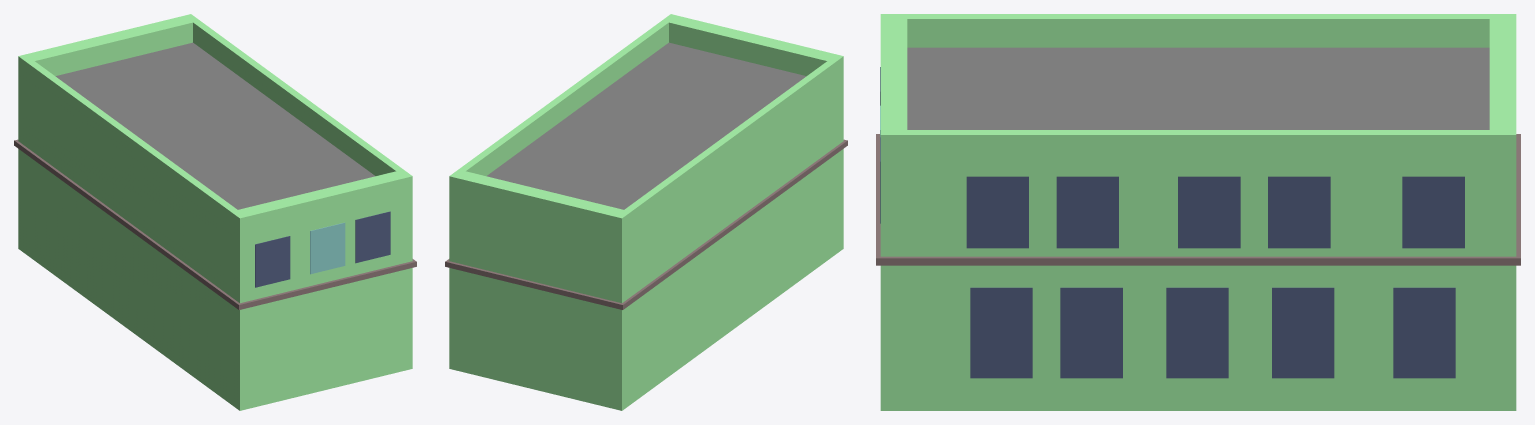
The model's file is RESOURCE.glb.
3 views of the same model, side by side, from view 1: azimuth 30°, elevation 25°; view 2: azimuth 150°, elevation 25°; view 3: azimuth 270°, elevation 25° (orthographic). The views are drawn at different scales.
Visible parts, largest first — view 1: polySurface11; view 2: polySurface11; view 3: polySurface11.
Boxes of the visible parts, left/top/right/bottom form: polySurface11: left=14, top=14, right=416, bottom=410; polySurface11: left=445, top=14, right=847, bottom=410; polySurface11: left=876, top=14, right=1520, bottom=410.
Size of the model in its own units: 5.48 by 5.67 by 12.01.
